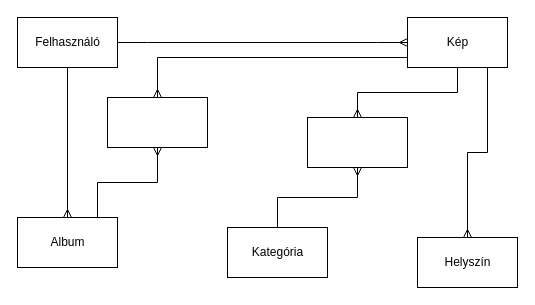
This 535x305 diagram has some shape labels left out. Here are the shapes that lost their labels. From the top down, the centre of each, then its label:
[157,122]: Kép-Album
[357,142]: Kép-Kategória
